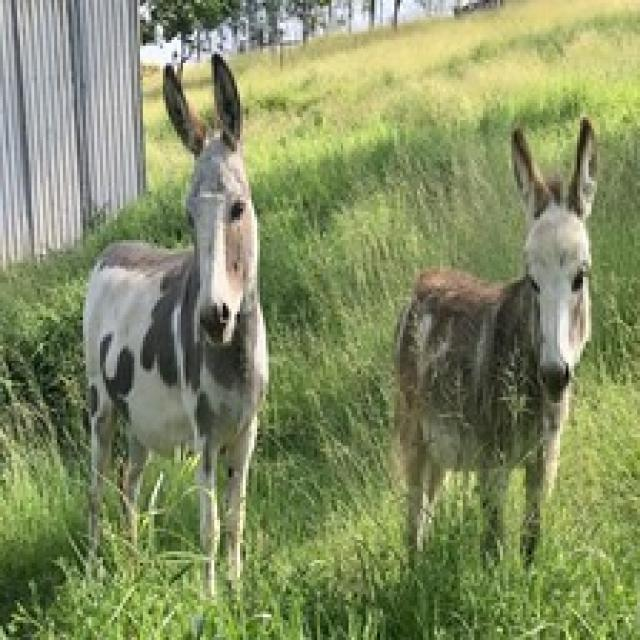Donkey: (80, 51, 269, 603), (388, 114, 598, 572)
